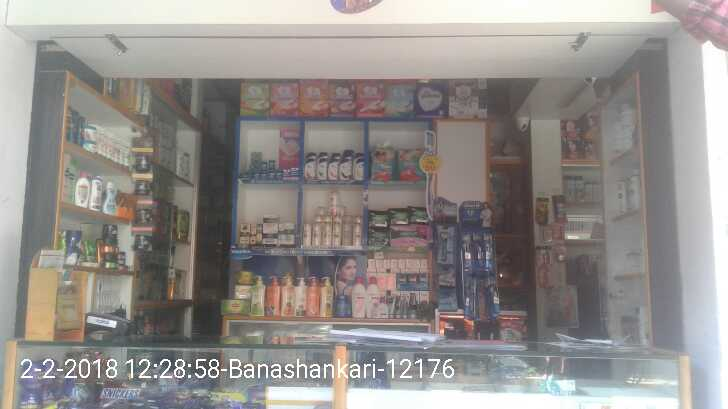beauty: (352, 154, 366, 183), (279, 220, 295, 245), (261, 210, 277, 233), (300, 223, 314, 247), (332, 215, 342, 245), (328, 189, 338, 218), (322, 218, 332, 247), (304, 156, 315, 182), (316, 155, 327, 181), (261, 231, 278, 247), (353, 214, 362, 243), (327, 160, 339, 181), (313, 221, 322, 249), (340, 157, 351, 178), (239, 221, 249, 244)
pharmacy: (396, 146, 425, 181), (389, 225, 429, 248), (371, 145, 396, 181), (366, 207, 389, 229), (367, 227, 388, 248), (408, 203, 430, 221), (387, 207, 409, 224), (292, 164, 303, 181)
